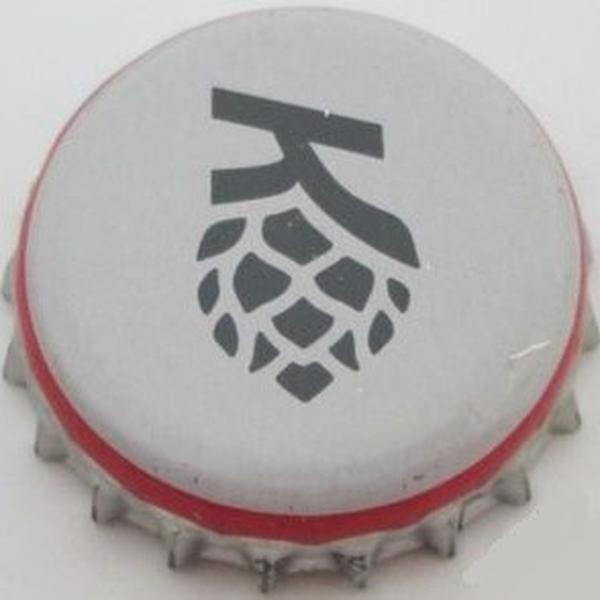kornuit: (1, 1, 600, 600)
